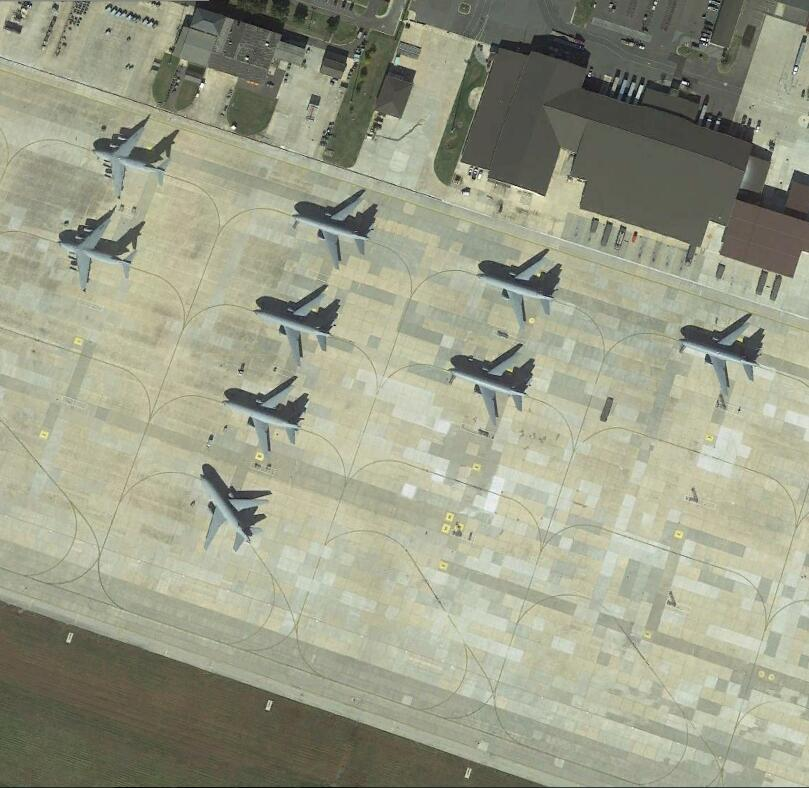A18: (679, 310, 765, 398), (474, 245, 562, 329), (222, 378, 310, 459), (254, 283, 341, 364), (452, 342, 536, 425), (289, 190, 379, 267), (197, 467, 273, 556)
A3: (60, 212, 143, 292), (93, 121, 173, 201)
